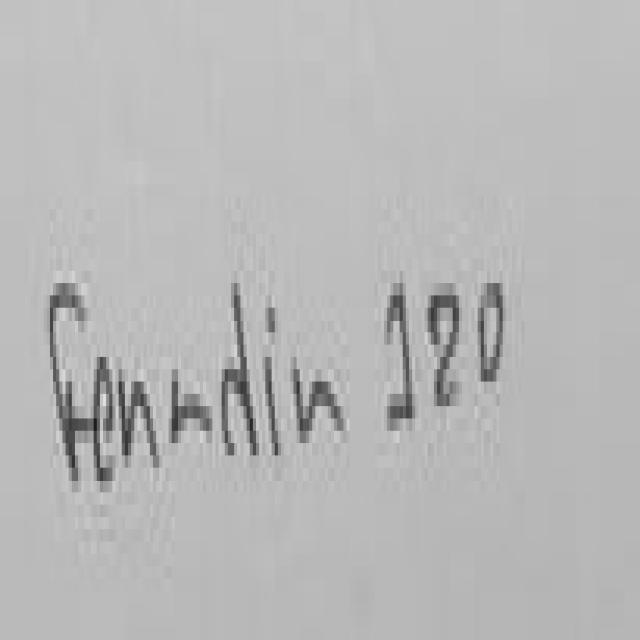0: (476, 217, 510, 445)
1: (385, 228, 419, 468)
2: (428, 211, 468, 456)
F: (38, 244, 90, 520)
a: (167, 331, 216, 494)
d: (217, 250, 260, 480)
e: (86, 350, 118, 512)
i: (260, 264, 287, 478)
n: (286, 304, 348, 483), (117, 350, 164, 492)
